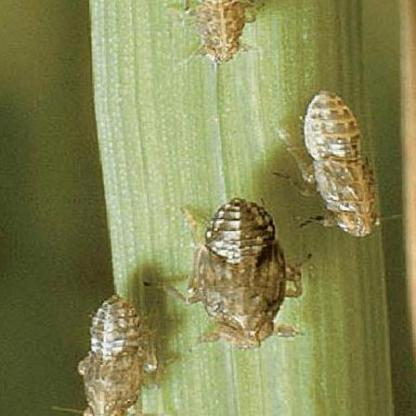brown-planthopper: (187, 198, 299, 348), (289, 88, 382, 238), (71, 292, 155, 416), (187, 0, 249, 65)
